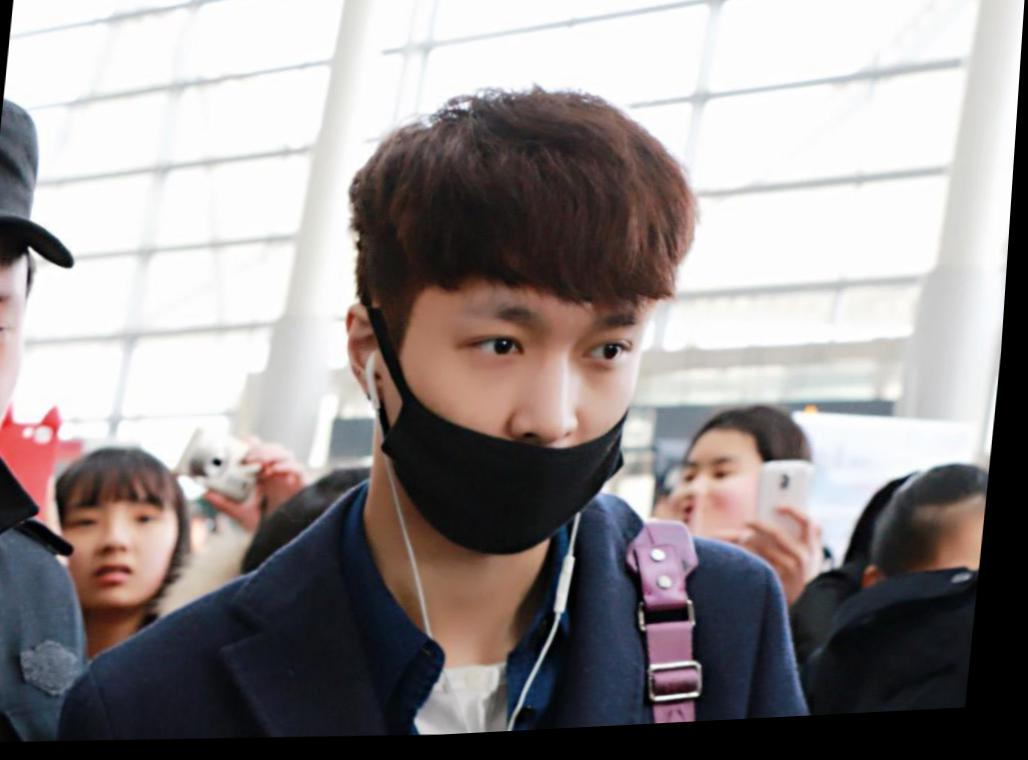NONE: (69, 501, 175, 606), (678, 453, 769, 542)
WRONG: (369, 292, 652, 572)
